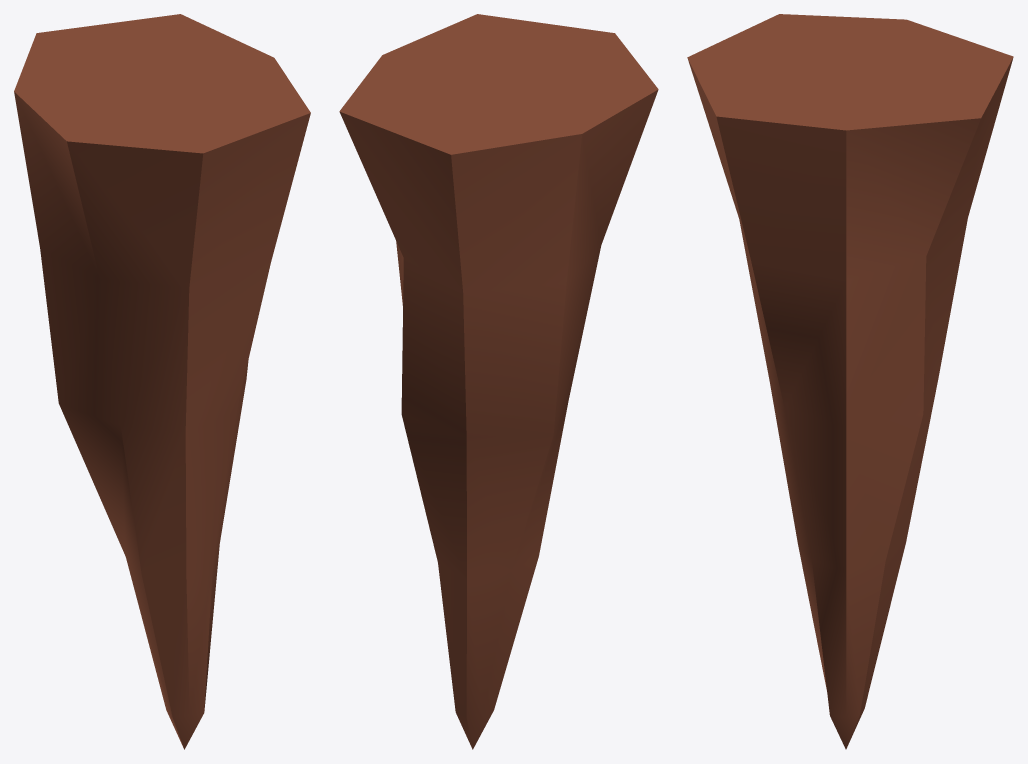
Rendered from Stalactite.fbx.
The picture shows the model from 3 angles, left to right: view 1: azimuth 30°, elevation 25°; view 2: azimuth 150°, elevation 25°; view 3: azimuth 270°, elevation 25°; orthographic projection.
Visible parts, largest first — view 1: RockDark; view 2: RockDark; view 3: RockDark.
Boxes of the visible parts, left/top/right/bottom form: RockDark: left=14, top=14, right=310, bottom=749; RockDark: left=339, top=14, right=658, bottom=749; RockDark: left=687, top=14, right=1013, bottom=749.
Size of the model in its own units: 3.02 by 8 by 3.57.
